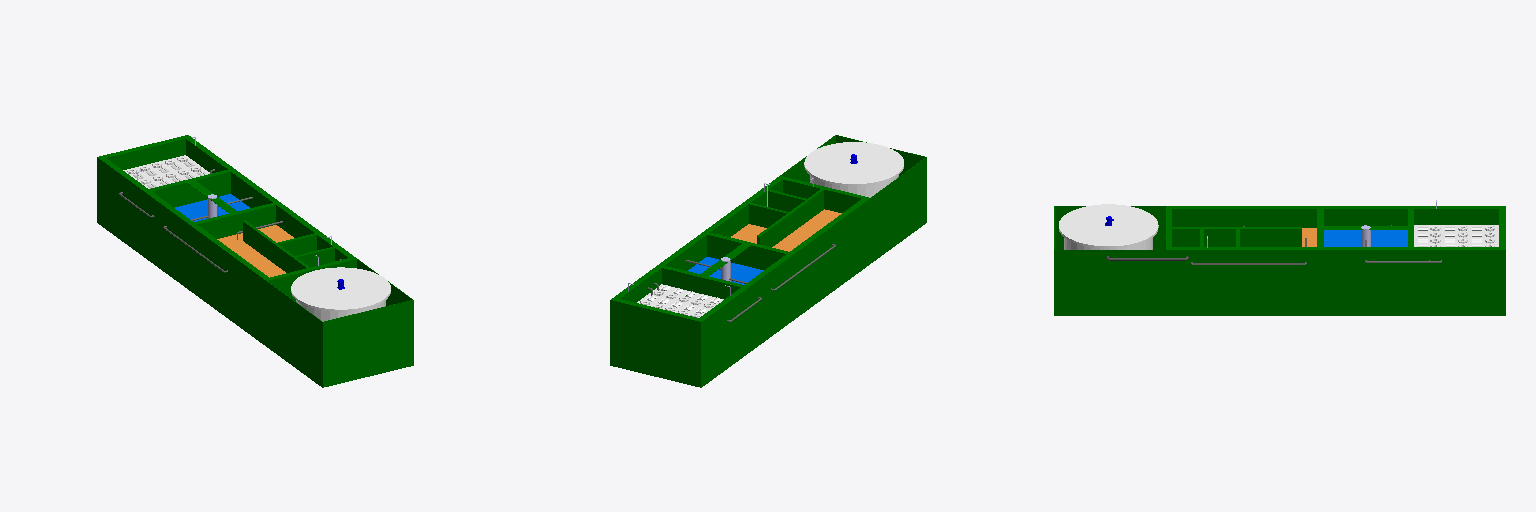
3 views of the same model, side by side, from view 1: azimuth 30°, elevation 25°; view 2: azimuth 150°, elevation 25°; view 3: azimuth 270°, elevation 25° (orthographic).
Parts seen in each view (by area): view 1: NONE_DC_Brep; view 2: NONE_DC_Brep; view 3: NONE_DC_Brep.
Part boxes in pixels (x1,y1,x2,y2): NONE_DC_Brep: (97,135,413,387); NONE_DC_Brep: (610,135,926,387); NONE_DC_Brep: (1054,200,1505,315).
Size of the model in its own units: 9619 by 6962 by 37297.